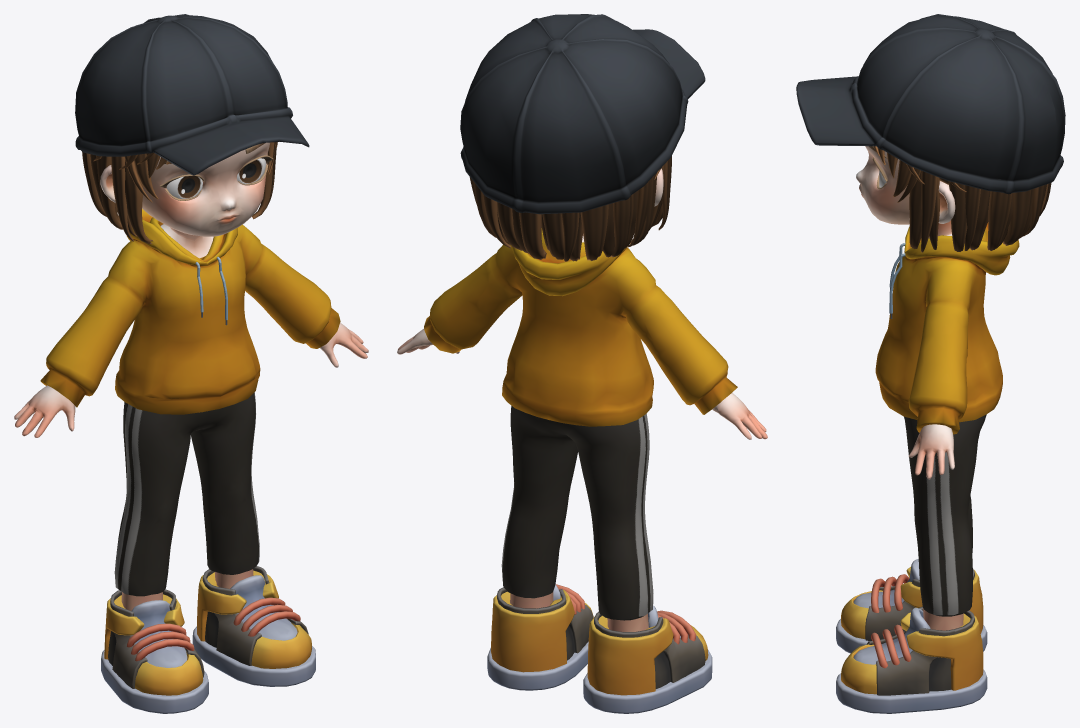
3 renders of one model, left to right at view 1: azimuth 30°, elevation 25°; view 2: azimuth 150°, elevation 25°; view 3: azimuth 270°, elevation 25°, orthographic. The views are drawn at different scales.
Parts seen in each view (by area): view 1: pants2, top2, hair1, body_base; view 2: hair1, pants2, top2, body_base; view 3: hair1, pants2, top2, body_base.
Part boxes in pixels (box(x1,y1,x2,y2)): pants2: box(101, 392, 315, 713); top2: box(40, 209, 340, 414); hair1: box(75, 14, 309, 243); body_base: box(14, 142, 368, 610); hair1: box(460, 14, 705, 261); pants2: box(487, 406, 712, 713); top2: box(424, 228, 737, 426); body_base: box(397, 168, 767, 631); hair1: box(796, 14, 1065, 252); pants2: box(836, 414, 987, 713); top2: box(875, 222, 1019, 434); body_base: box(856, 146, 963, 630).
Bounding box in the file's own units: 85.36 × 148 × 56.4.
